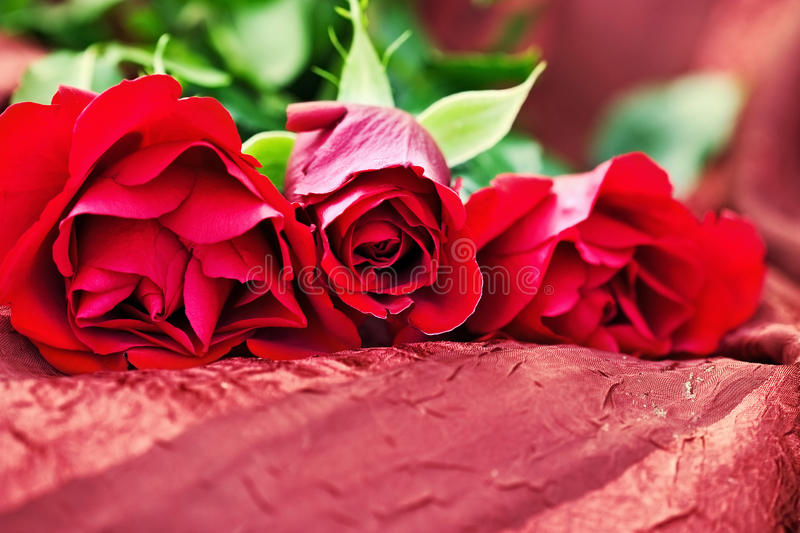RedRose: (8, 83, 268, 345), (297, 103, 475, 318), (520, 168, 705, 351)
